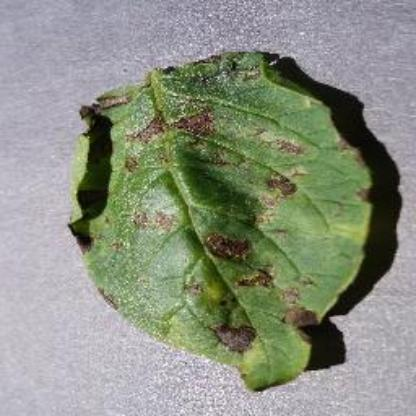Early-Blight: (65, 48, 381, 390)
